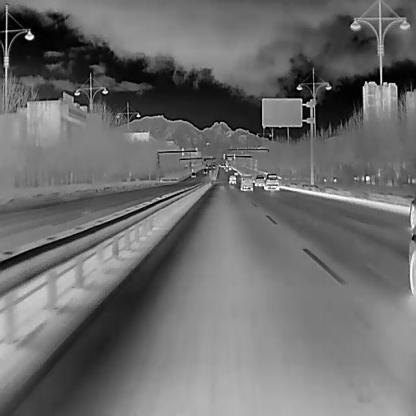car: (264, 172, 279, 190), (239, 174, 254, 190), (254, 174, 265, 186), (228, 175, 236, 184), (203, 167, 208, 173), (190, 172, 195, 177), (233, 170, 238, 175), (224, 167, 229, 172), (228, 164, 232, 170), (212, 164, 216, 169), (220, 164, 225, 168), (208, 164, 211, 168), (204, 164, 207, 167)
